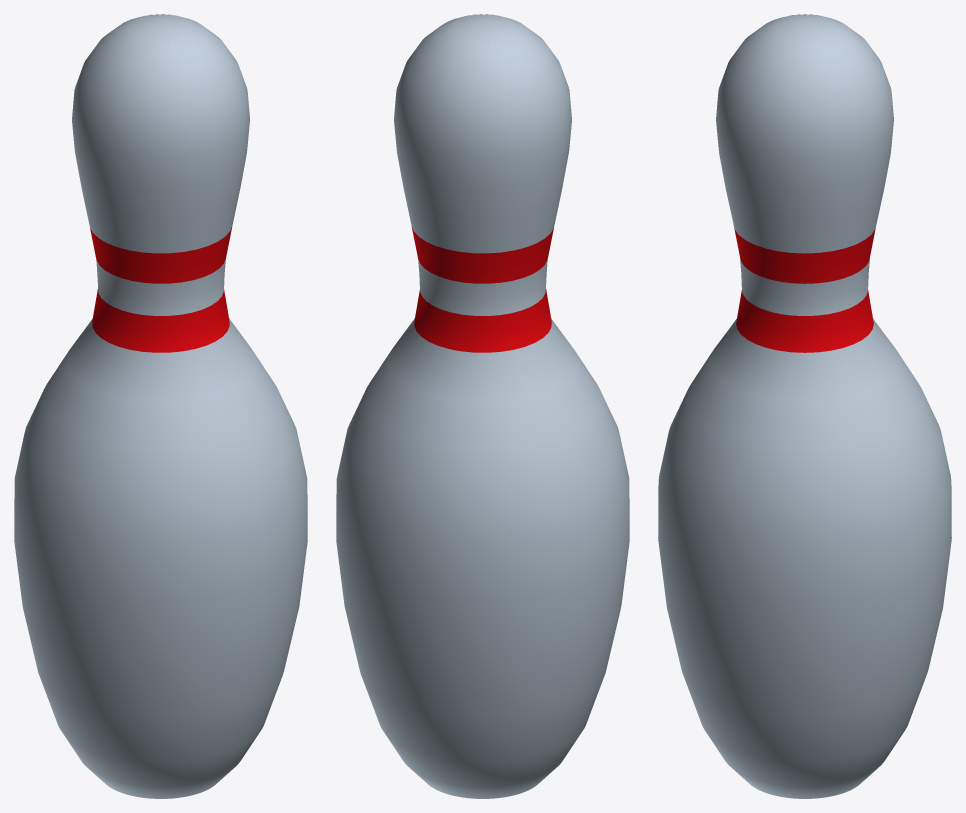
Rendered from Pin.fbx.
3 views of the same model, side by side, from view 1: azimuth 30°, elevation 25°; view 2: azimuth 150°, elevation 25°; view 3: azimuth 270°, elevation 25° (orthographic).
Visible parts, largest first — view 1: Cylinder; view 2: Cylinder; view 3: Cylinder.
Boxes of the visible parts, x1,y1,x2,y2 form: Cylinder: [14, 14, 307, 798]; Cylinder: [336, 14, 629, 798]; Cylinder: [658, 14, 951, 798].
Size of the model in its own units: 86.17 by 243 by 86.17.
